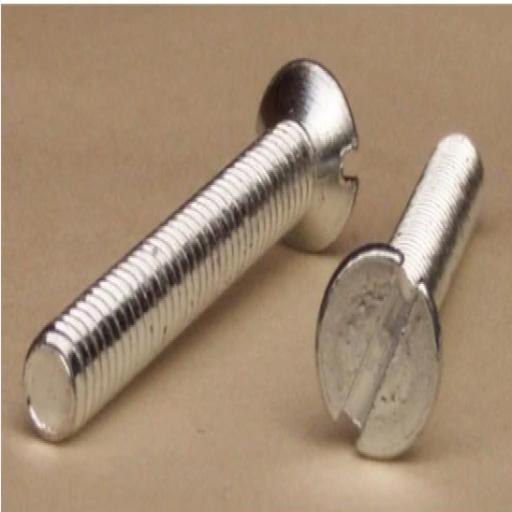Slotted: (317, 248, 441, 459)
